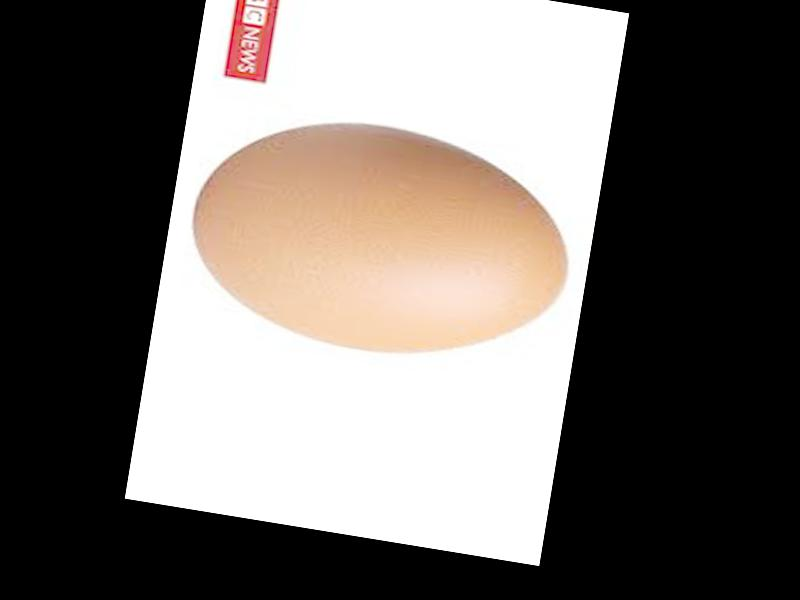Eggs: (178, 99, 582, 380)
